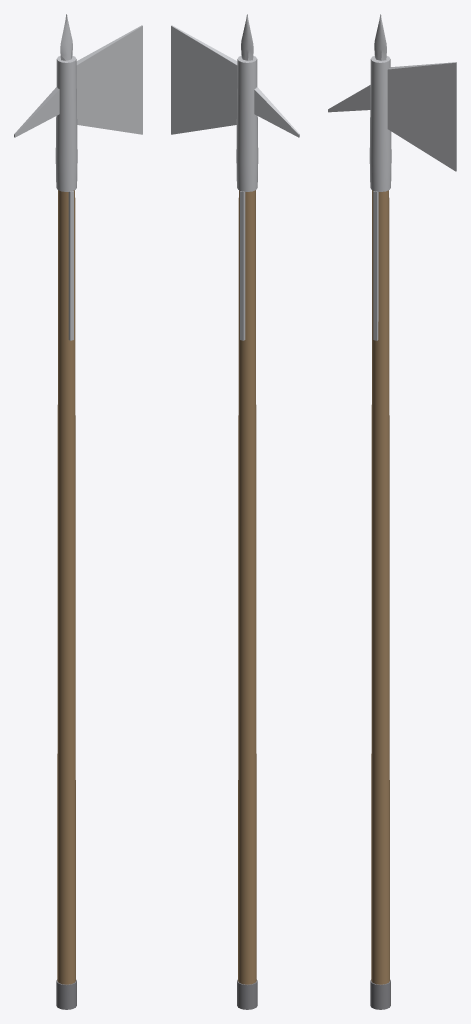
The model's file is halberd.glb.
3 renders of one model, left to right at view 1: azimuth 30°, elevation 25°; view 2: azimuth 150°, elevation 25°; view 3: azimuth 330°, elevation 25°, orthographic.
Visible parts, largest first — view 1: OUT; view 2: OUT; view 3: OUT.
Boxes of the visible parts, x1,y1,x2,y2 form: OUT: (14, 14, 142, 1009); OUT: (171, 14, 299, 1009); OUT: (328, 14, 456, 1009).
Bounding box in the file's own units: 0.27 × 2 × 0.04.
